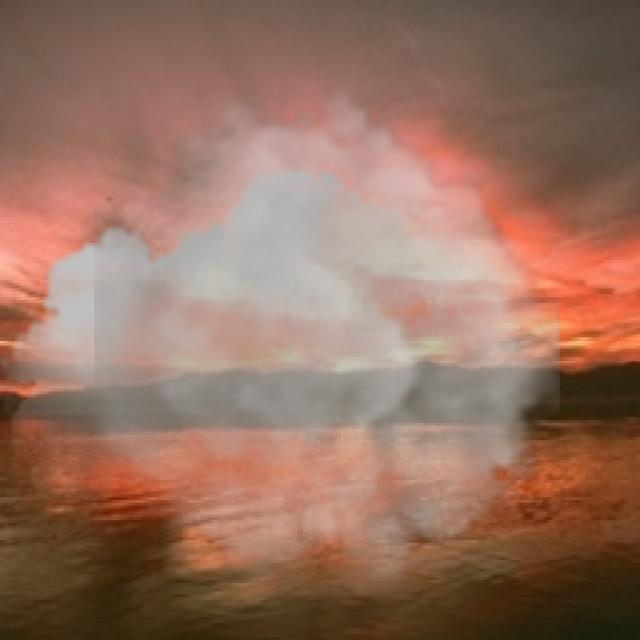smoke: (0, 71, 560, 603)
